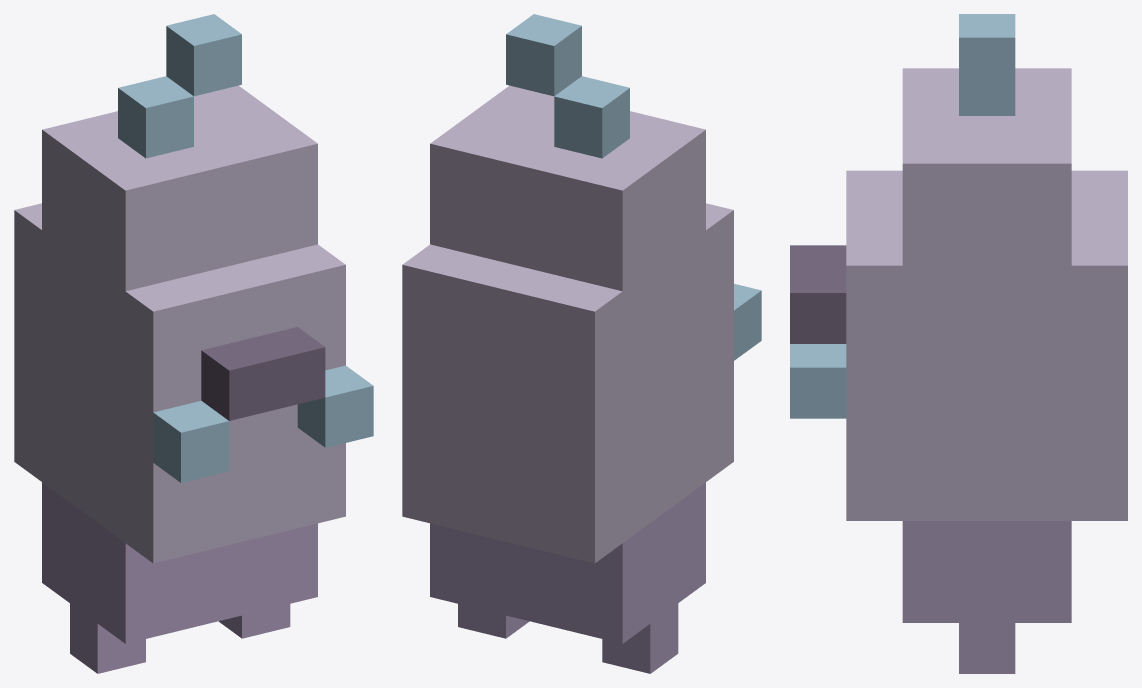
The model's file is ghost.glb.
3 views of the same model, side by side, from view 1: azimuth 30°, elevation 25°; view 2: azimuth 150°, elevation 25°; view 3: azimuth 270°, elevation 25° (orthographic).
Parts seen in each view (by area): view 1: ghost; view 2: ghost; view 3: ghost.
Boxes of the visible parts, x1,y1,x2,y2 form: ghost: [14, 14, 373, 673]; ghost: [402, 14, 761, 673]; ghost: [790, 14, 1127, 673].
Bounding box in the file's own units: 0.4 × 1.2 × 0.6.
